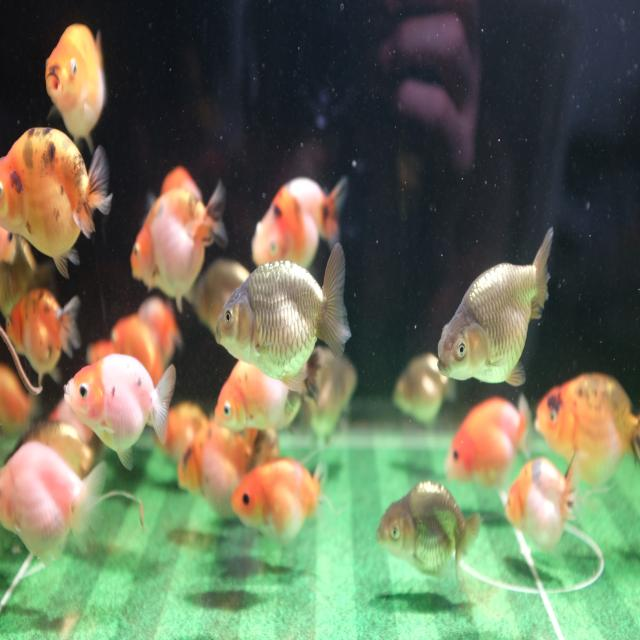Tilapia: (214, 243, 352, 401), (437, 226, 554, 387), (0, 125, 113, 279), (0, 440, 109, 569), (534, 371, 640, 500), (62, 351, 178, 467), (126, 182, 227, 313), (376, 479, 481, 585), (249, 168, 350, 271), (175, 424, 275, 519), (230, 455, 332, 547), (445, 392, 531, 490), (44, 22, 106, 156), (505, 451, 577, 551), (4, 286, 85, 374), (392, 352, 458, 433)
